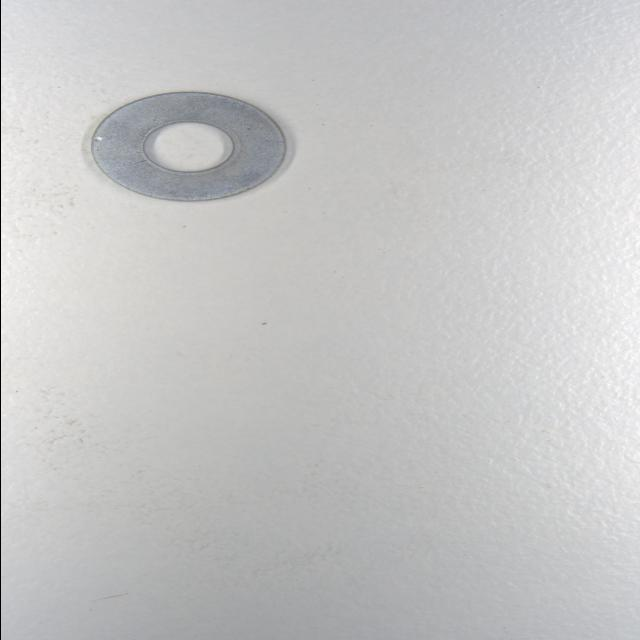washer: (89, 90, 286, 202)
